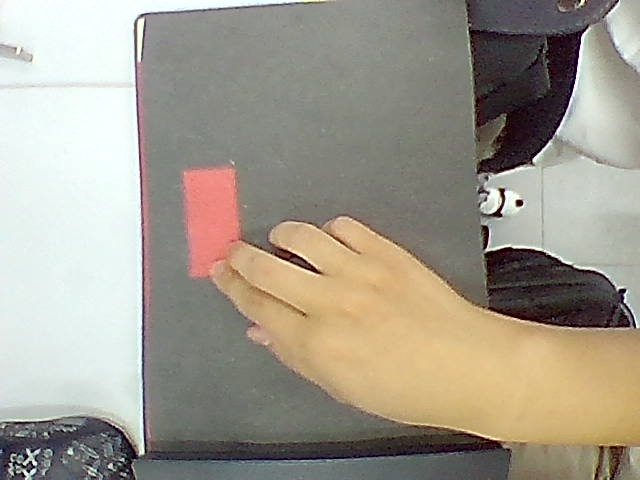card: (184, 167, 239, 277)
